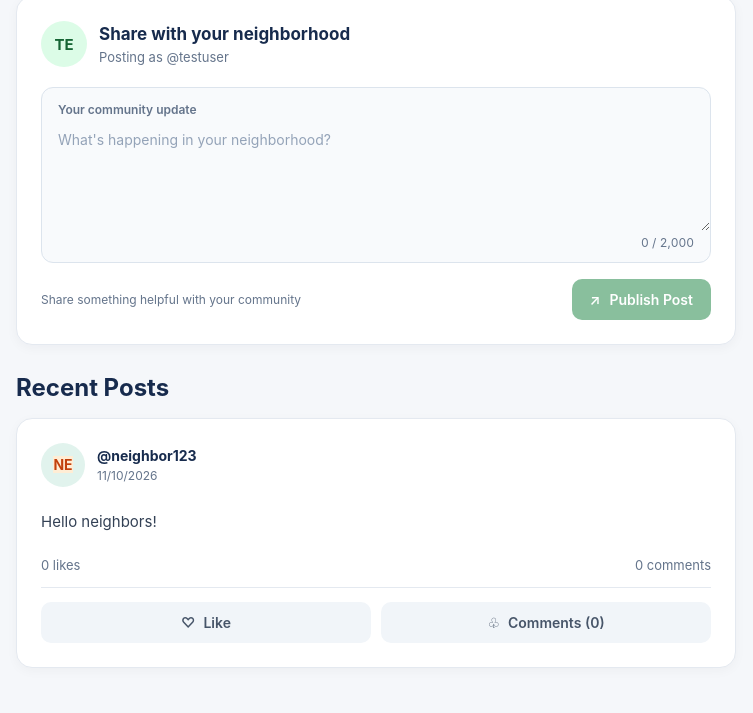
Community Feed › creates a comment
The width and height of the screenshot is (753, 713).
(page scrolled)
Click the button "♧ Comments (0)" at [546, 622], box [381,602,711,643]
(page scrolled)
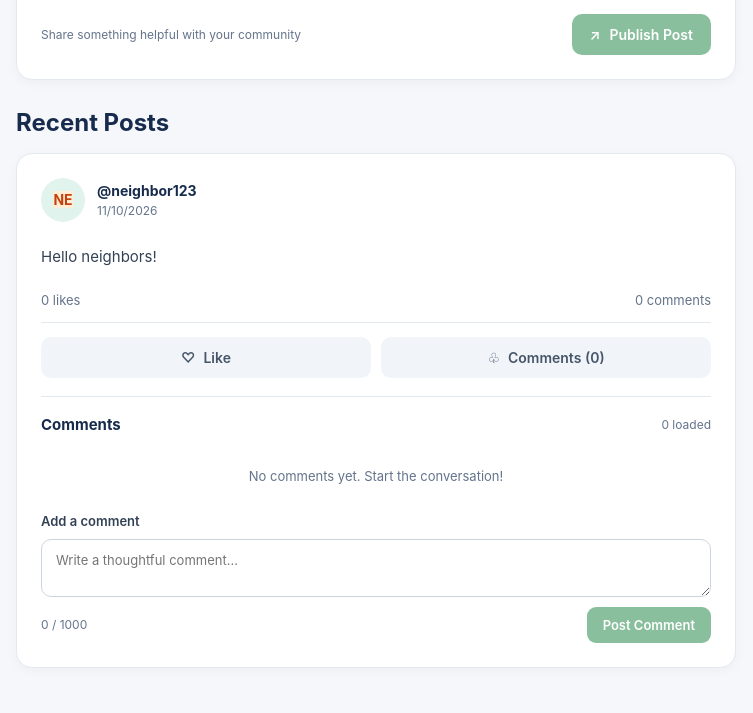
Type "Nice post!" into the text box labelled "Add a comment" at [376, 568], box [41,539,711,597]
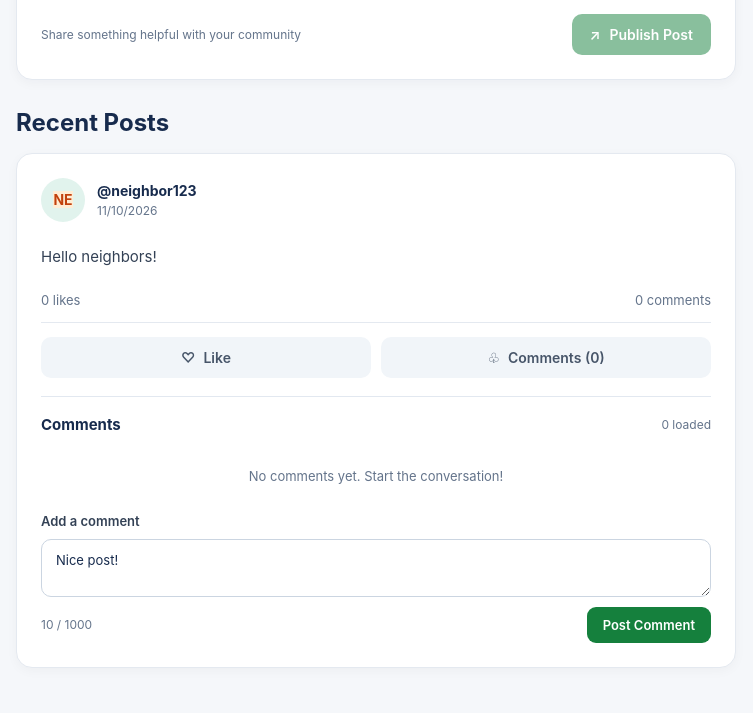
Check: the button "Post Comment" is enabled
Click the button "Post Comment" at [649, 625], box [587,607,711,643]
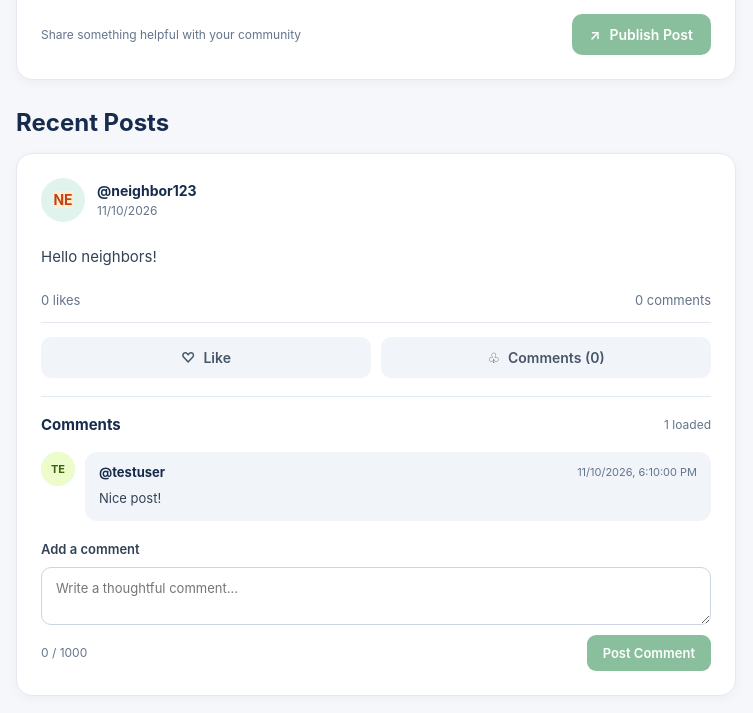
Check: the text "Nice post!" is shown, box [99,490,161,506]
